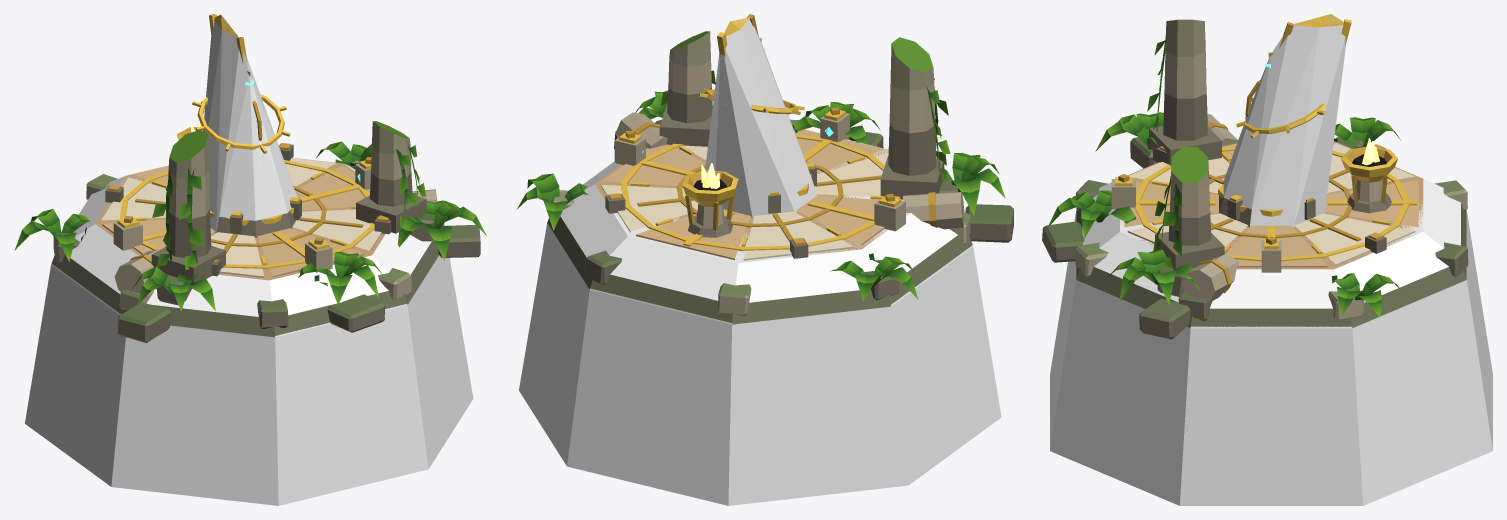
The model's file is ancient_sun_dial_plaza.glb.
3 renders of one model, left to right at view 1: azimuth 30°, elevation 25°; view 2: azimuth 150°, elevation 25°; view 3: azimuth 270°, elevation 25°, orthographic. The views are drawn at different scales.
Visible parts, largest first — view 1: col_plaza_dais, AncientSunDialPlaza, col_plaza_gnomon; view 2: col_plaza_dais, AncientSunDialPlaza, col_plaza_gnomon; view 3: col_plaza_dais, AncientSunDialPlaza, col_plaza_gnomon.
Boxes of the visible parts, bbox=[...] form: col_plaza_dais: bbox=[25, 158, 473, 505]; AncientSunDialPlaza: bbox=[14, 14, 486, 342]; col_plaza_gnomon: bbox=[203, 18, 297, 232]; col_plaza_dais: bbox=[519, 129, 1001, 505]; AncientSunDialPlaza: bbox=[516, 14, 1013, 324]; col_plaza_gnomon: bbox=[705, 18, 816, 217]; col_plaza_dais: bbox=[1050, 179, 1492, 505]; AncientSunDialPlaza: bbox=[1042, 14, 1468, 339]; col_plaza_gnomon: bbox=[1223, 17, 1346, 227].
Size of the model in its own units: 8.31 by 7.98 by 8.18.
